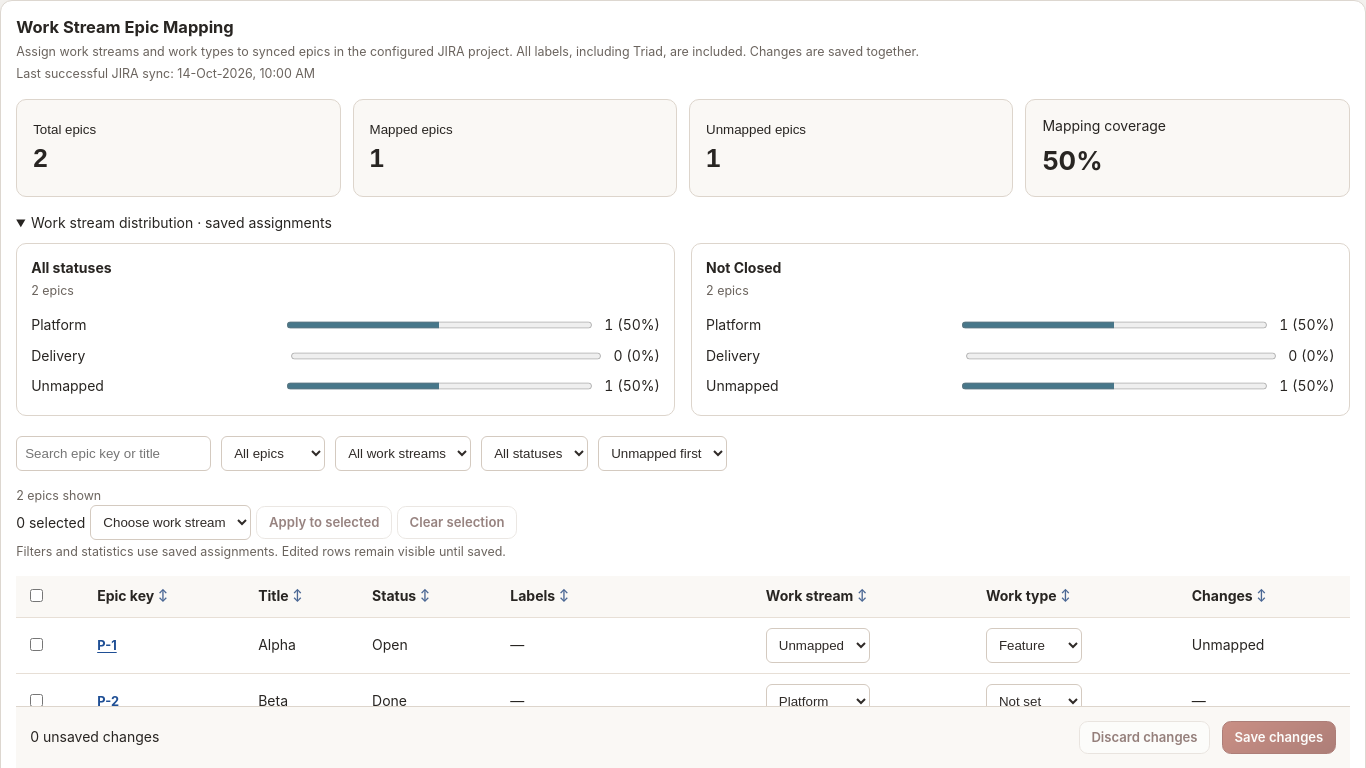
Test: Epic mapping › stages and saves work type changes without changing the work stream
Check: the dropdown named "Work stream for P-1" is shown, box [766, 628, 870, 663]
Select "Tech debt" in the dropdown named "Work type for P-1" at (1034, 645), box [986, 628, 1082, 663]
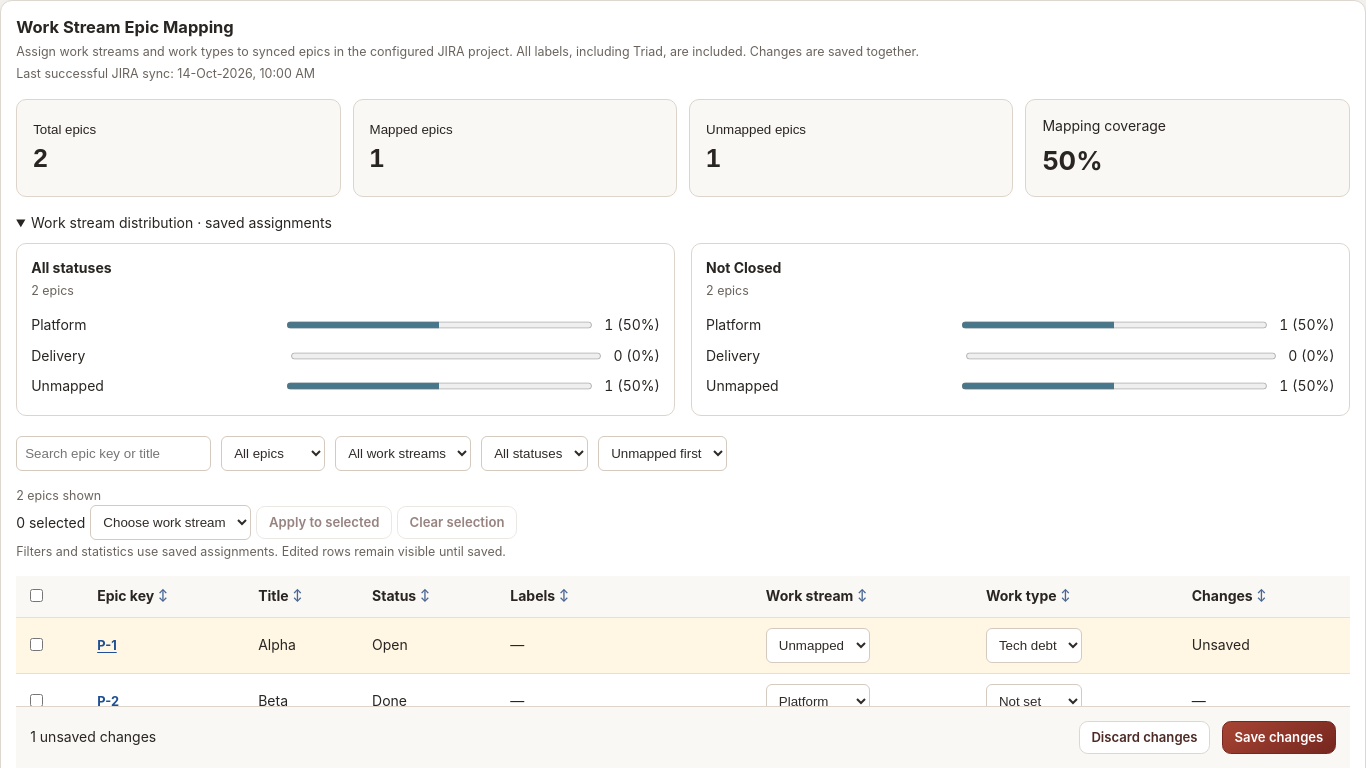
Check: the dropdown named "Work stream for P-1" shows "Unmapped", box [766, 628, 870, 663]
Check: the text "1 unsaved changes" is shown, box [30, 727, 156, 748]
Click the button "Save changes".
click(1279, 737)  # box [1222, 721, 1336, 754]
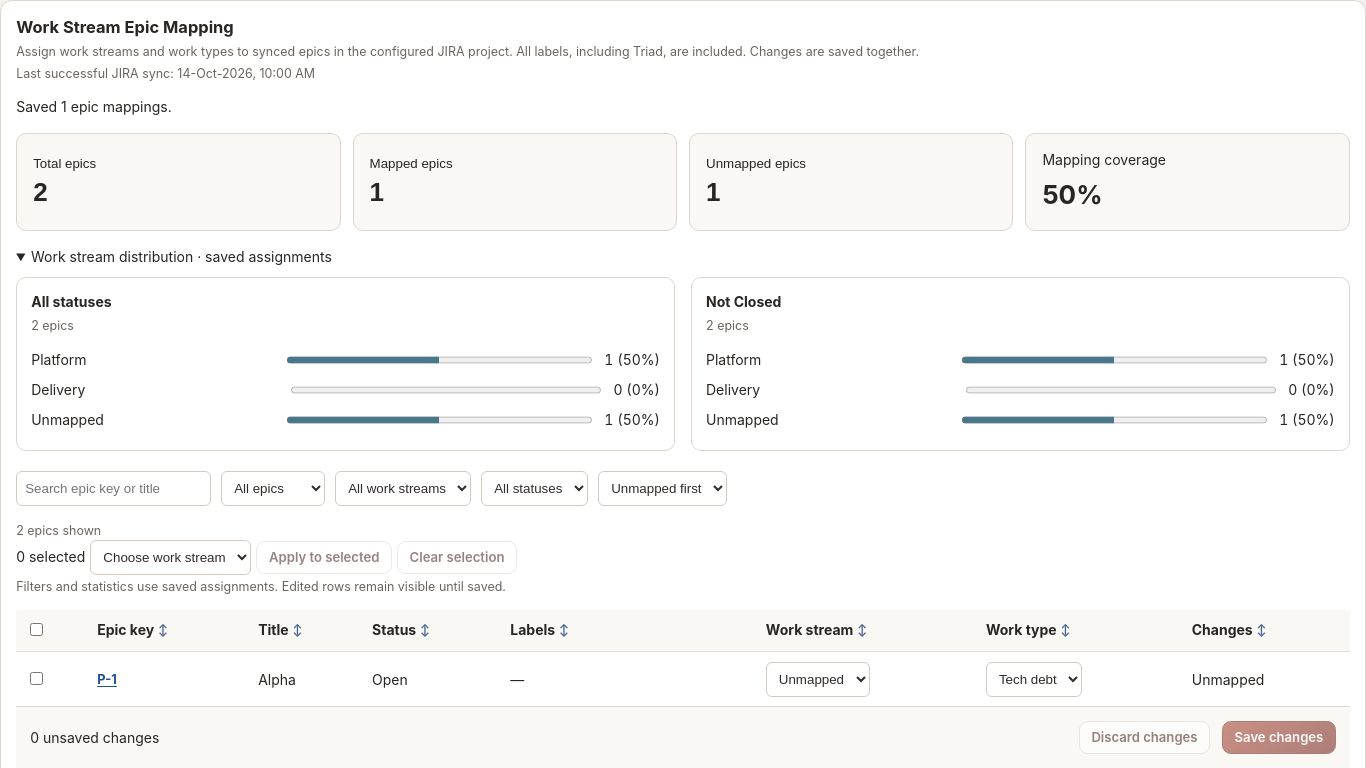
Check: the text "Saved 1 epic mappings." is shown, box [16, 98, 172, 115]
Check: the text "0 unsaved changes" is shown, box [30, 727, 159, 748]
Select "Not set" in the dropdown named "Work type for P-1" at (1034, 680), box [986, 662, 1082, 697]
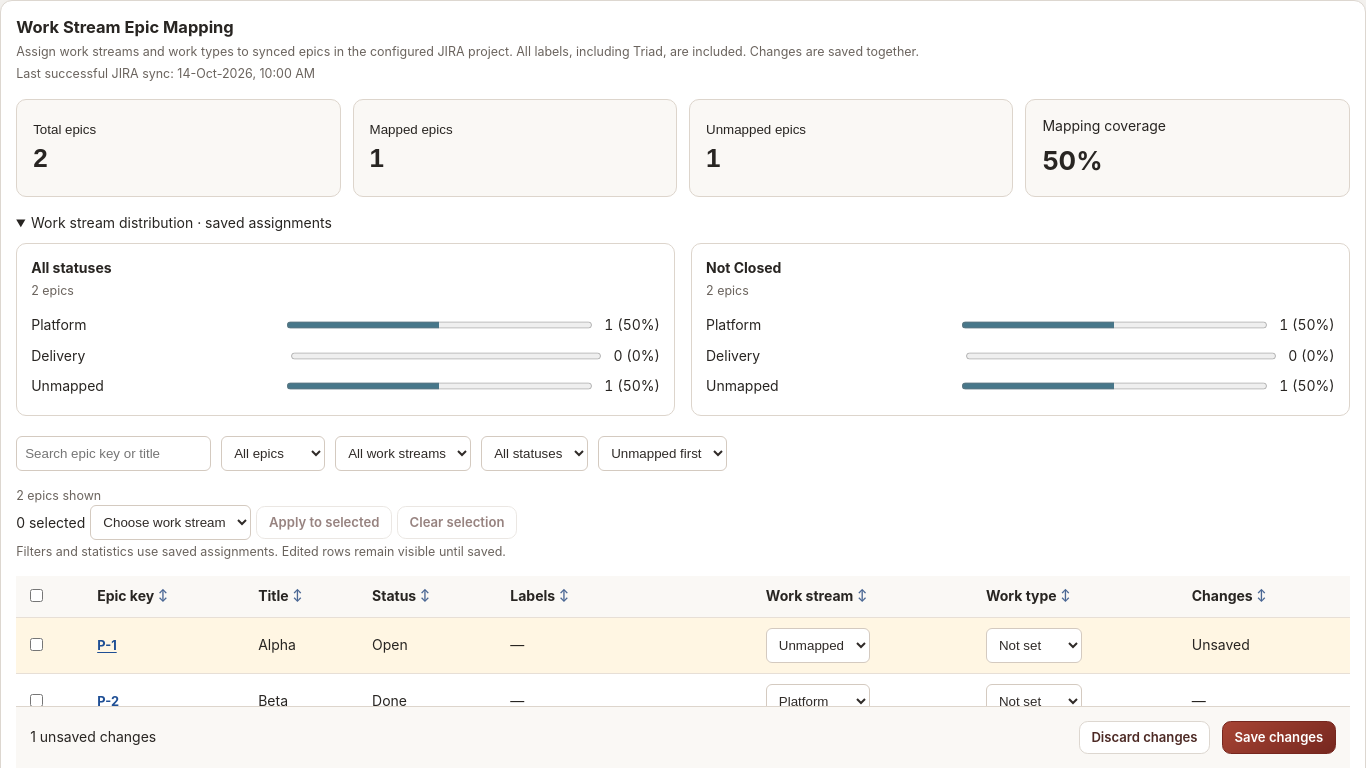
Click the button "Save changes".
click(1279, 737)  # box [1222, 721, 1336, 754]
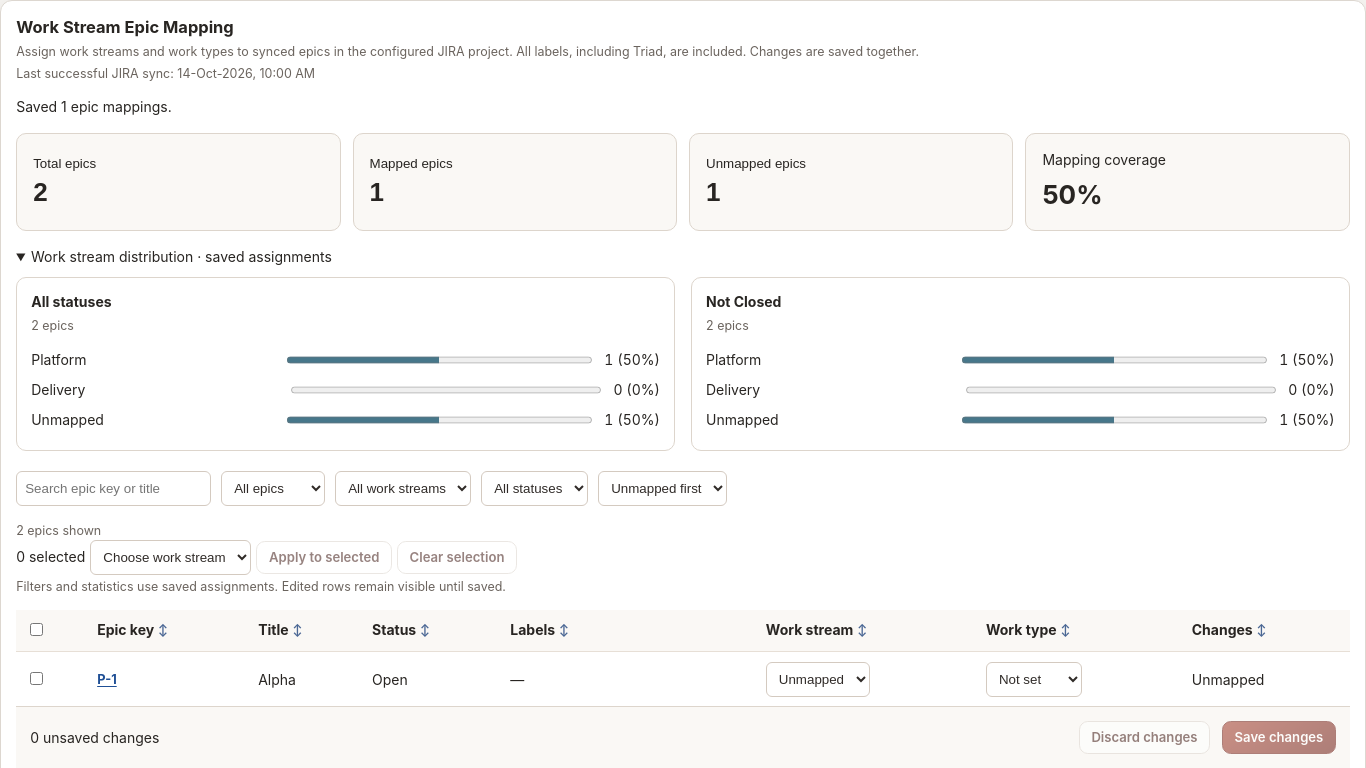
Check: the text "0 unsaved changes" is shown, box [30, 727, 159, 748]
